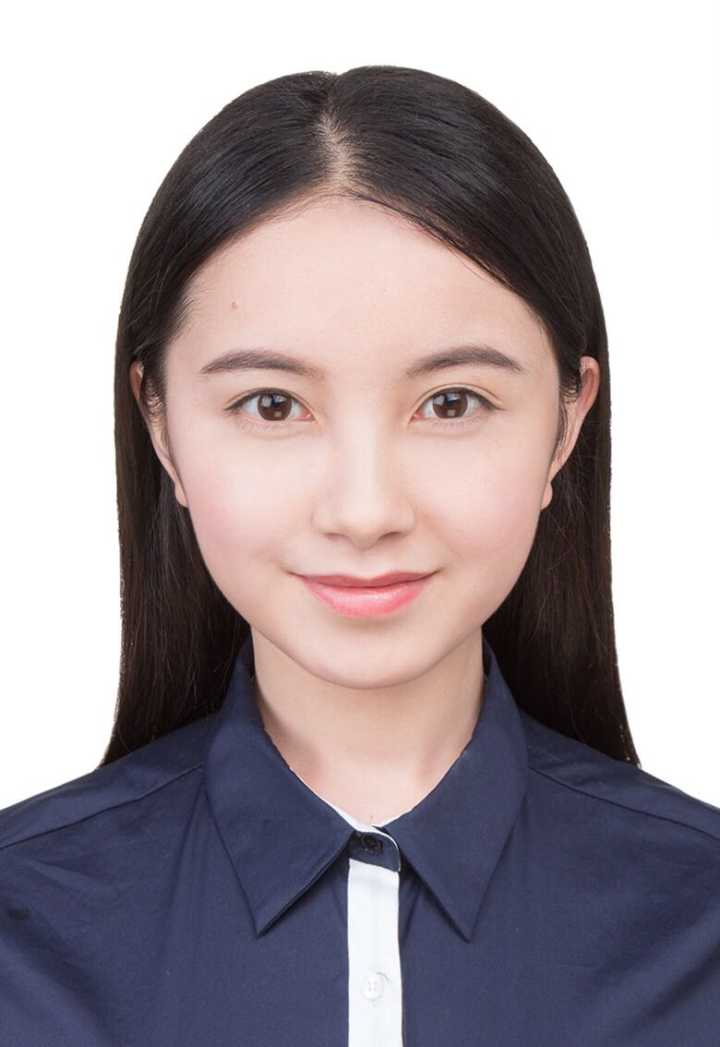unmask: (175, 257, 560, 675)
